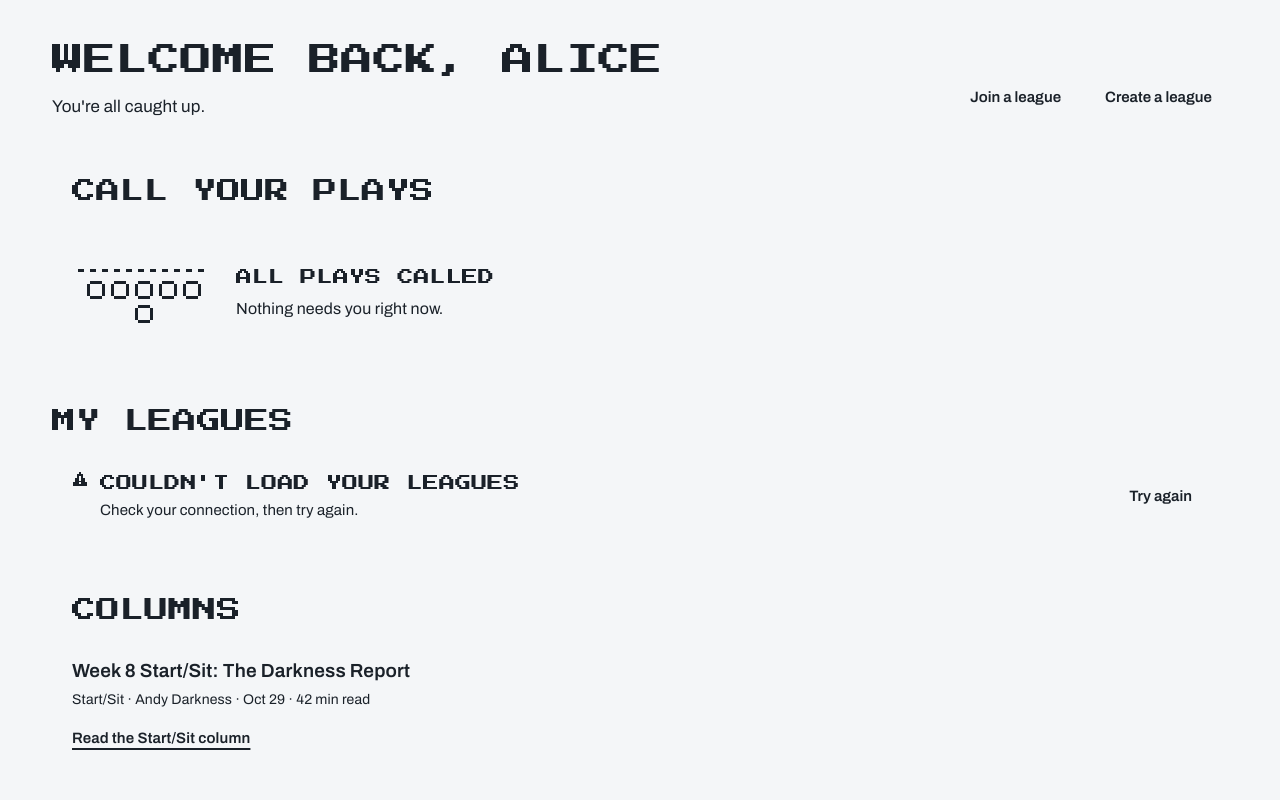
Test: Try again on a failed leagues fetch reads it again
The width and height of the screenshot is (1280, 800).
Check: the text "Couldn't load your leagues" is shown, box 100,471 -> 520,495
Step 1. Click the button with aria-label "Try loading your leagues again" → coordinates (1161, 496), box 1113,474 -> 1208,518
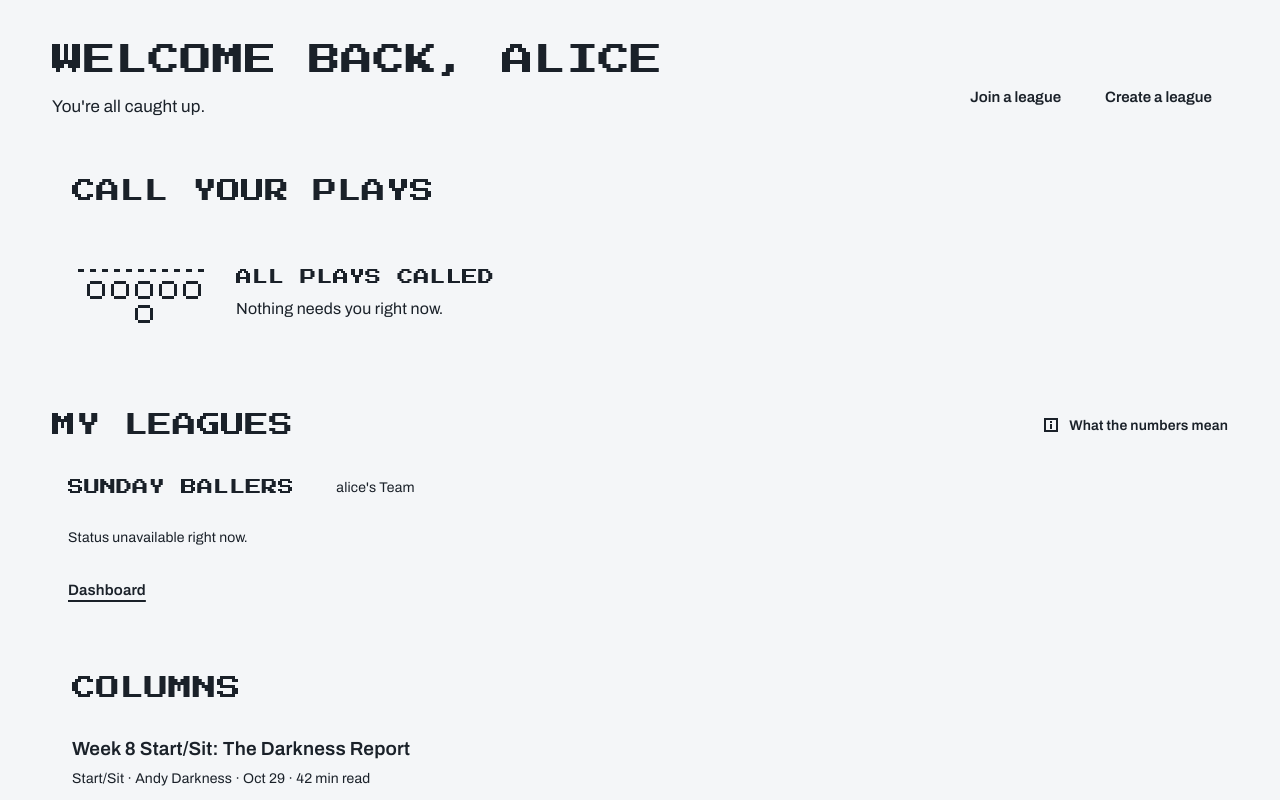
Check: the link "Sunday Ballers" is shown, box 68,479 -> 294,495
Check: the text "Couldn't load your leagues" is gone
